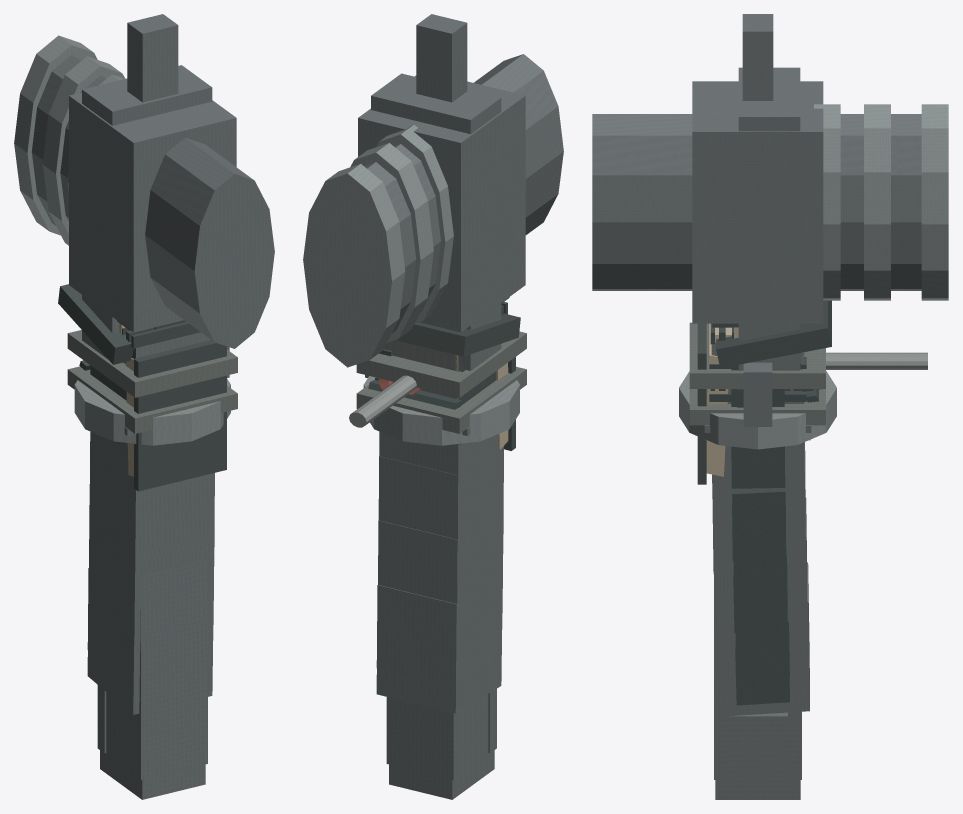
Rendered from weapon_scarl.glb.
3 views of the same model, side by side, from view 1: azimuth 30°, elevation 25°; view 2: azimuth 150°, elevation 25°; view 3: azimuth 270°, elevation 25° (orthographic).
Parts seen in each view (by area): view 1: weapon_scarl__L0_optic__prism2, weapon_scarl__L0_optic__scope6, weapon_scarl__L1_handguard_grip__fore_bail, weapon_scarl__L1_optic__scope6, weapon_scarl__L1_optic__prism2, weapon_scarl__L1_magazine__ar556_30, weapon_scarl__L0_handguard_grip__fore_bail, weapon_scarl__L1_stock__scar_precision, weapon_scarl__L1_magazine__ar556_20, weapon_scarl__L0_magazine__ar556_20, weapon_scarl__L1_muzzle__scar_brake, weapon_scarl__L0_stock__scar_precision (+15 smaller); view 2: weapon_scarl__L0_optic__scope6, weapon_scarl__L0_optic__prism2, weapon_scarl__L1_magazine__ar556_20, weapon_scarl__L1_optic__scope6, weapon_scarl__L0_magazine__ar556_20, weapon_scarl__L1_optic__prism2, weapon_scarl__L0_handguard_grip__fore_bail, weapon_scarl__L0_magazine__ar556_30, weapon_scarl__L1_magazine__ar556_30, weapon_scarl__L1_optic__dot_tube, weapon_scarl__L0_optic__dot_tube, weapon_scarl__L0_optic__holo (+14 smaller); view 3: weapon_scarl__L0_optic__prism2, weapon_scarl__L0_optic__scope6, weapon_scarl__L1_optic__prism2, weapon_scarl__L0_magazine__ar556_20, weapon_scarl__L0_optic__scope4, weapon_scarl__L0_magazine__ar556_30, weapon_scarl__L1_magazine__ar556_20, weapon_scarl__L1_optic__scope6, weapon_scarl__L1_handguard_grip__fore_bail, weapon_scarl__L1_magazine__ar556_30, weapon_scarl__L0_optic__dot_tube, weapon_scarl__L0_handguard_grip__fore_bail (+16 smaller).
Part boxes in pixels (x1,y1,x2,y2): weapon_scarl__L0_optic__prism2: [43, 57, 235, 328]; weapon_scarl__L0_optic__scope6: [14, 36, 273, 345]; weapon_scarl__L1_handguard_grip__fore_bail: [97, 559, 207, 799]; weapon_scarl__L1_optic__scope6: [14, 35, 274, 348]; weapon_scarl__L1_optic__prism2: [42, 56, 236, 332]; weapon_scarl__L1_magazine__ar556_30: [87, 431, 214, 714]; weapon_scarl__L0_handguard_grip__fore_bail: [98, 561, 206, 793]; weapon_scarl__L1_stock__scar_precision: [117, 320, 226, 491]; weapon_scarl__L1_magazine__ar556_20: [87, 441, 214, 691]; weapon_scarl__L0_magazine__ar556_20: [88, 436, 211, 680]; weapon_scarl__L1_muzzle__scar_brake: [67, 330, 237, 433]; weapon_scarl__L0_stock__scar_precision: [122, 325, 225, 490]; weapon_scarl__L0_optic__scope6: [304, 54, 561, 364]; weapon_scarl__L0_optic__prism2: [353, 82, 525, 338]; weapon_scarl__L1_magazine__ar556_20: [376, 360, 503, 687]; weapon_scarl__L1_optic__scope6: [303, 54, 563, 367]; weapon_scarl__L0_magazine__ar556_20: [378, 359, 503, 684]; weapon_scarl__L1_optic__prism2: [350, 75, 525, 342]; weapon_scarl__L0_handguard_grip__fore_bail: [388, 689, 496, 793]; weapon_scarl__L0_magazine__ar556_30: [378, 532, 502, 710]; weapon_scarl__L1_magazine__ar556_30: [376, 434, 503, 713]; weapon_scarl__L1_optic__dot_tube: [376, 14, 467, 323]; weapon_scarl__L0_optic__dot_tube: [379, 15, 466, 319]; weapon_scarl__L0_optic__holo: [372, 74, 500, 367]; weapon_scarl__L0_optic__prism2: [682, 82, 889, 320]; weapon_scarl__L0_optic__scope6: [593, 104, 947, 300]; weapon_scarl__L1_optic__prism2: [681, 81, 890, 323]; weapon_scarl__L0_magazine__ar556_20: [715, 365, 809, 690]; weapon_scarl__L0_optic__scope4: [649, 114, 863, 290]; weapon_scarl__L0_magazine__ar556_30: [713, 365, 808, 714]; weapon_scarl__L1_magazine__ar556_20: [712, 366, 809, 693]; weapon_scarl__L1_optic__scope6: [592, 104, 948, 300]; weapon_scarl__L1_handguard_grip__fore_bail: [714, 591, 801, 799]; weapon_scarl__L1_magazine__ar556_30: [712, 365, 809, 716]; weapon_scarl__L0_optic__dot_tube: [743, 14, 839, 300]; weapon_scarl__L0_handguard_grip__fore_bail: [714, 629, 800, 794].
Size of the model in its own units: 1.74 by 9.09 by 3.85.
Materials: 3 (3 with a texture image).
